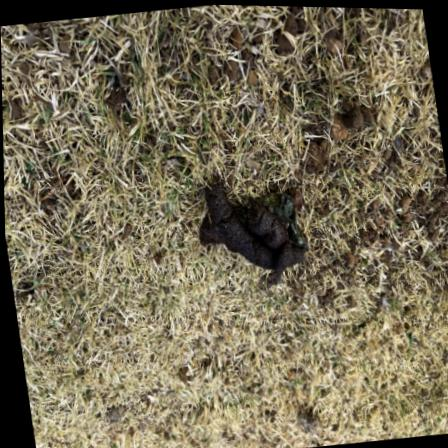dog-poop: (186, 171, 318, 294)
